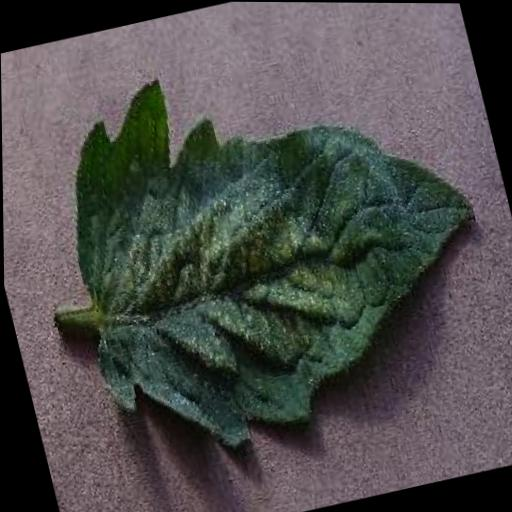Spider Mites: (34, 13, 512, 478)
